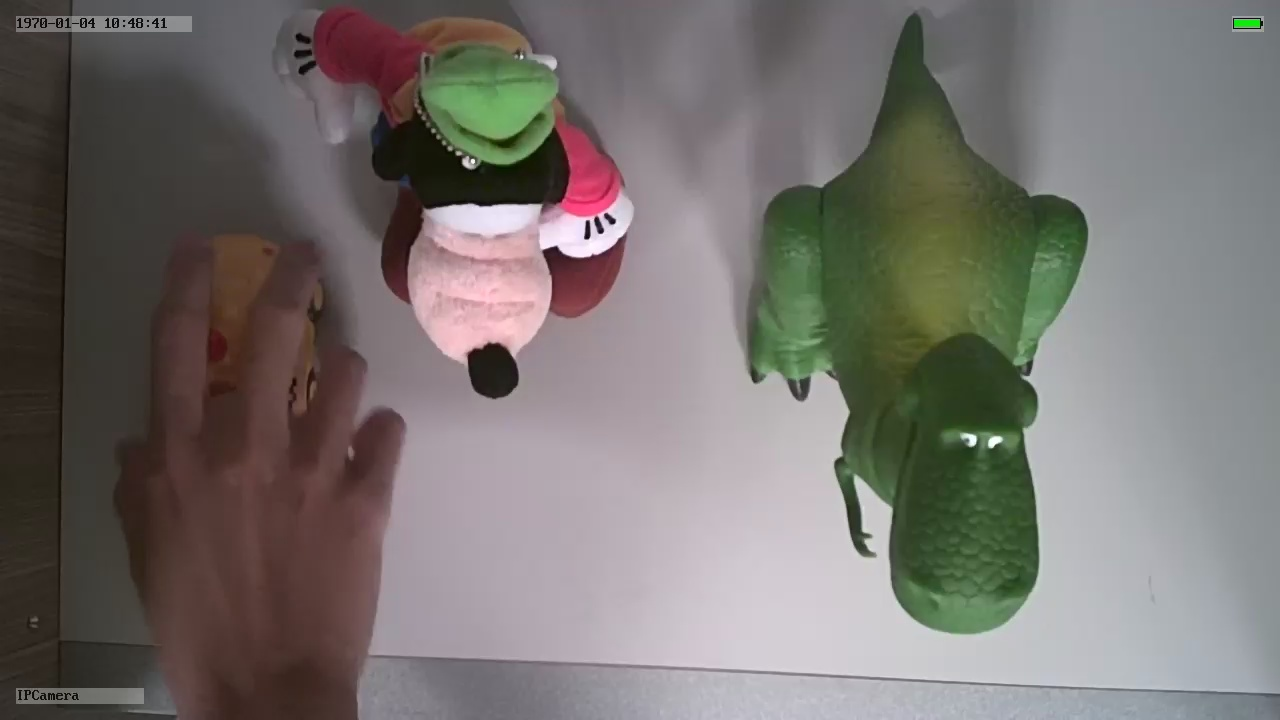rex: (745, 102, 1088, 635)
